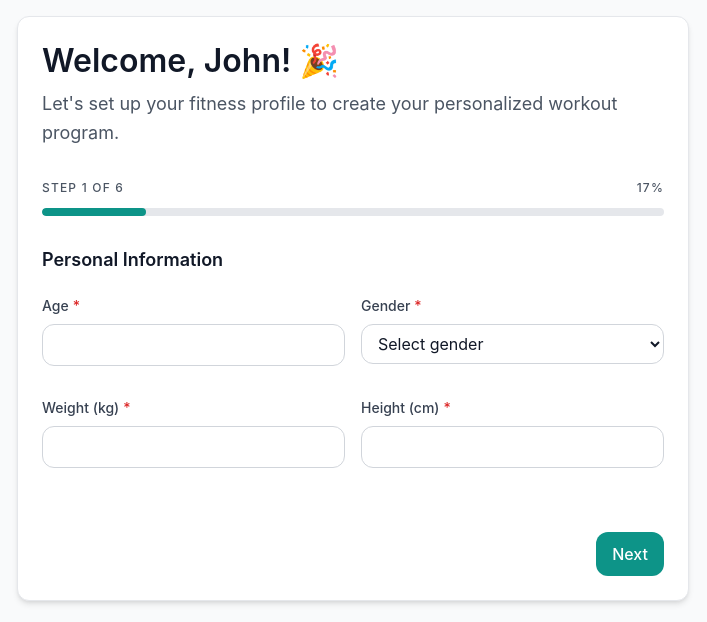
OnboardingPage › should navigate back to a previous step
In the number field labelled "Age*": (194, 345) [42,324,345,366], type "30"
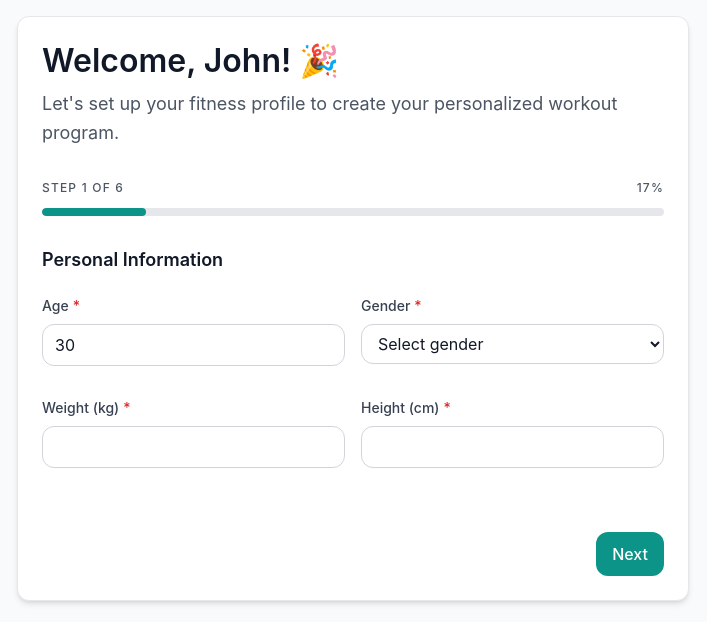
Select "Male" in the dropdown labelled "Gender *": (512, 344) [361,324,664,364]
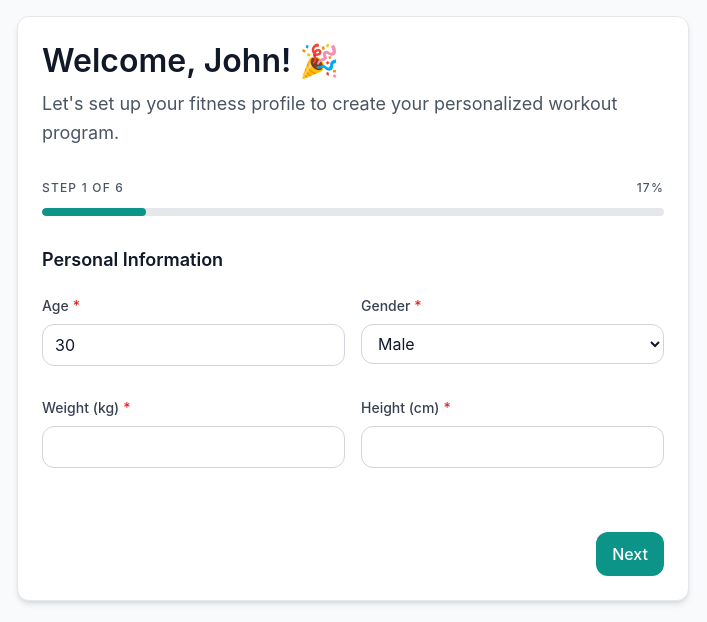
In the number field labelled "Weight (kg)*": (194, 447) [42,426,345,468], type "75.5"
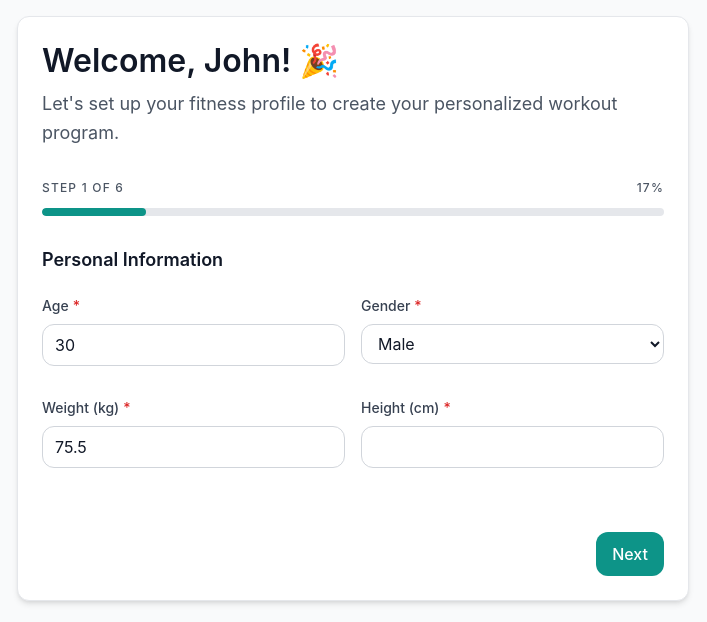
In the number field labelled "Height (cm)*": (512, 447) [361,426,664,468], type "180"
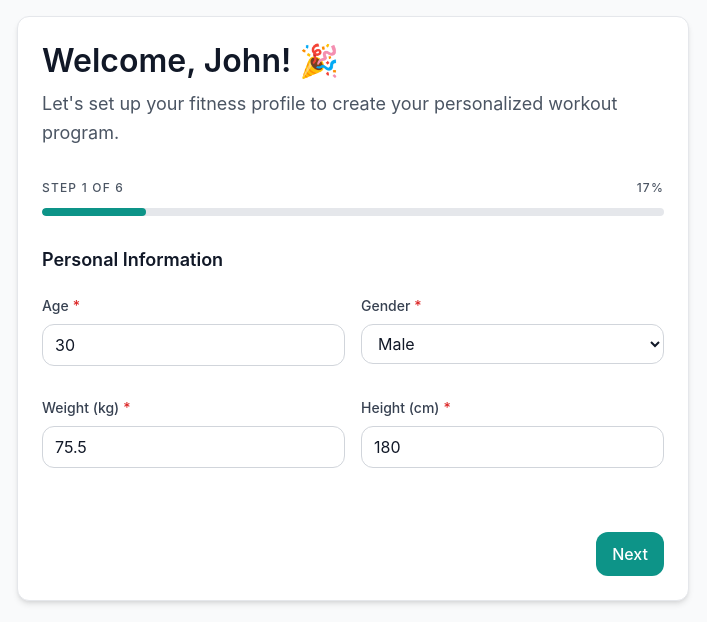
Click the button "Next": click(630, 554) [596,532,664,576]
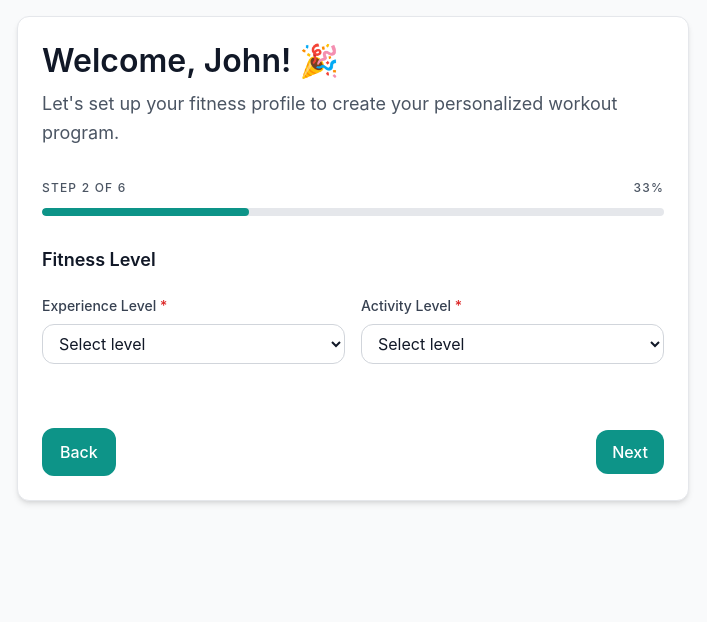
Check: the heading "Fitness Level" is shown, box [42,248,156,270]
Check: the text "Step 2 of 6" is shown, box [42,180,126,196]
Click the button "Back": click(79, 452) [42,428,116,476]
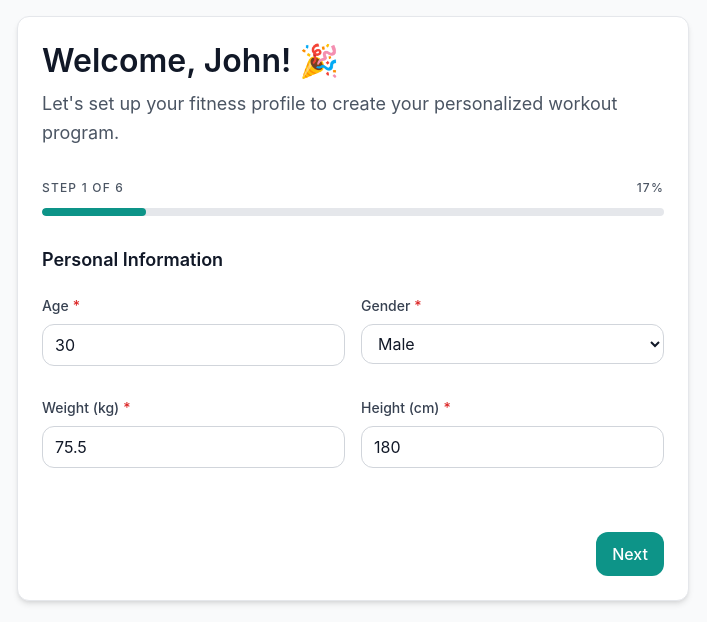
Check: the text "Step 1 of 6" is shown, box [42,180,124,196]
Check: the number field labelled "Age*" holds "30", box [42,324,345,366]
